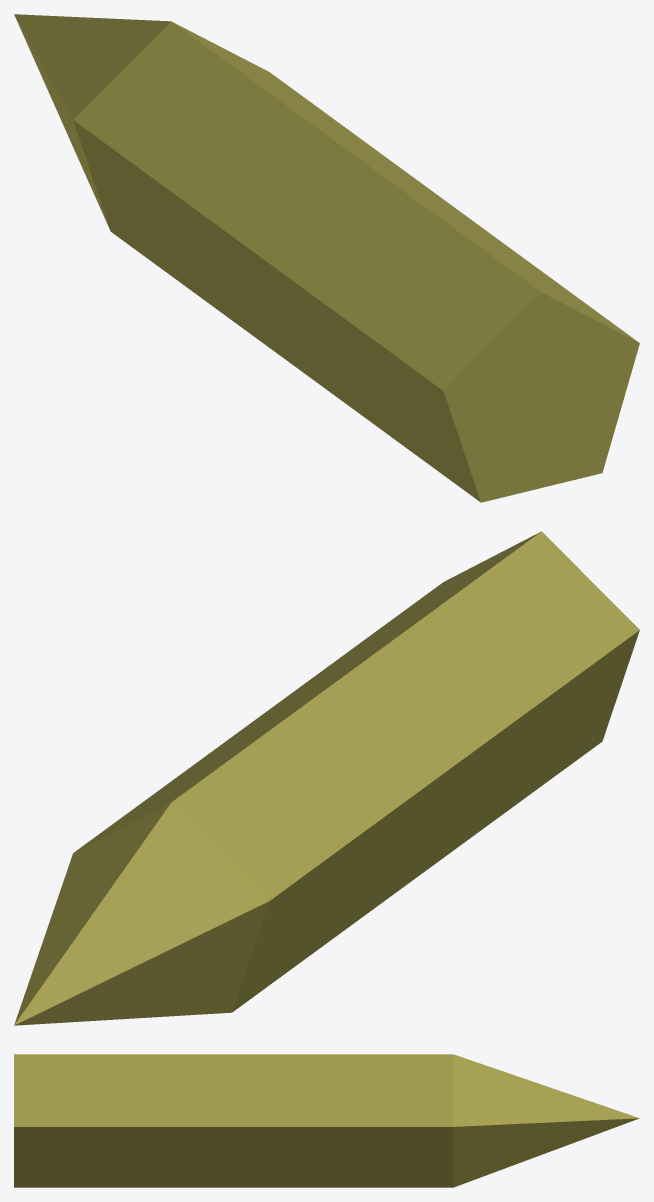
The model's file is bullet.glb.
The picture shows the model from 3 angles, top to bottom: view 1: azimuth 30°, elevation 25°; view 2: azimuth 150°, elevation 25°; view 3: azimuth 270°, elevation 25°; orthographic projection. The views are drawn at different scales.
Visible parts, largest first — view 1: Bullet; view 2: Bullet; view 3: Bullet.
Part boxes in pixels (x1=…): Bullet: x1=14, y1=14, x2=639, y2=502; Bullet: x1=14, y1=531, x2=639, y2=1025; Bullet: x1=14, y1=1054, x2=639, y2=1187.
Size of the model in its own units: 0.188 by 0.1788 by 0.875.
1 material, 1 textured.
